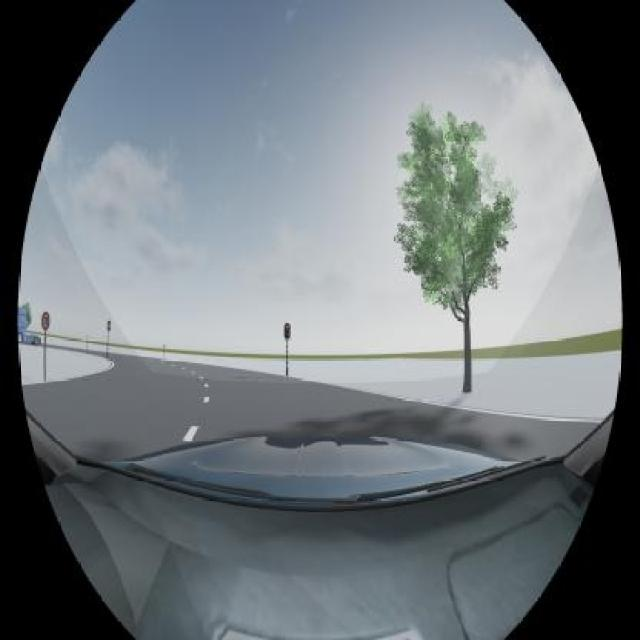forb_speed_over_70: (42, 312, 49, 330)
